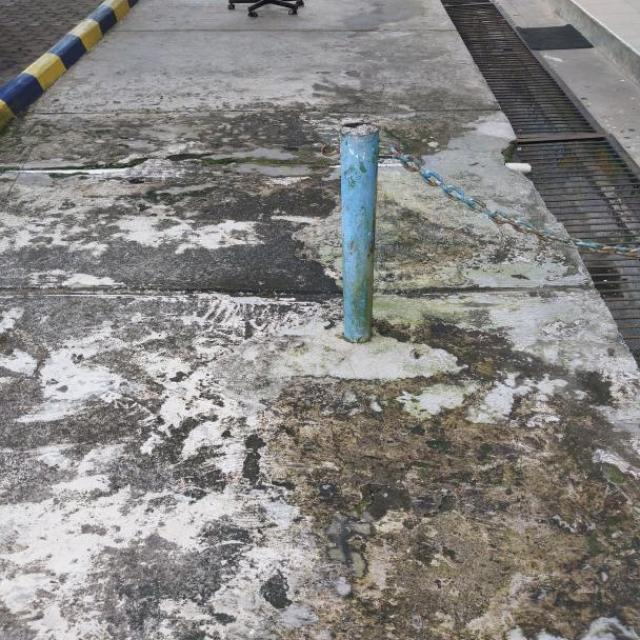barrier ahead at: (322, 113, 402, 346)
